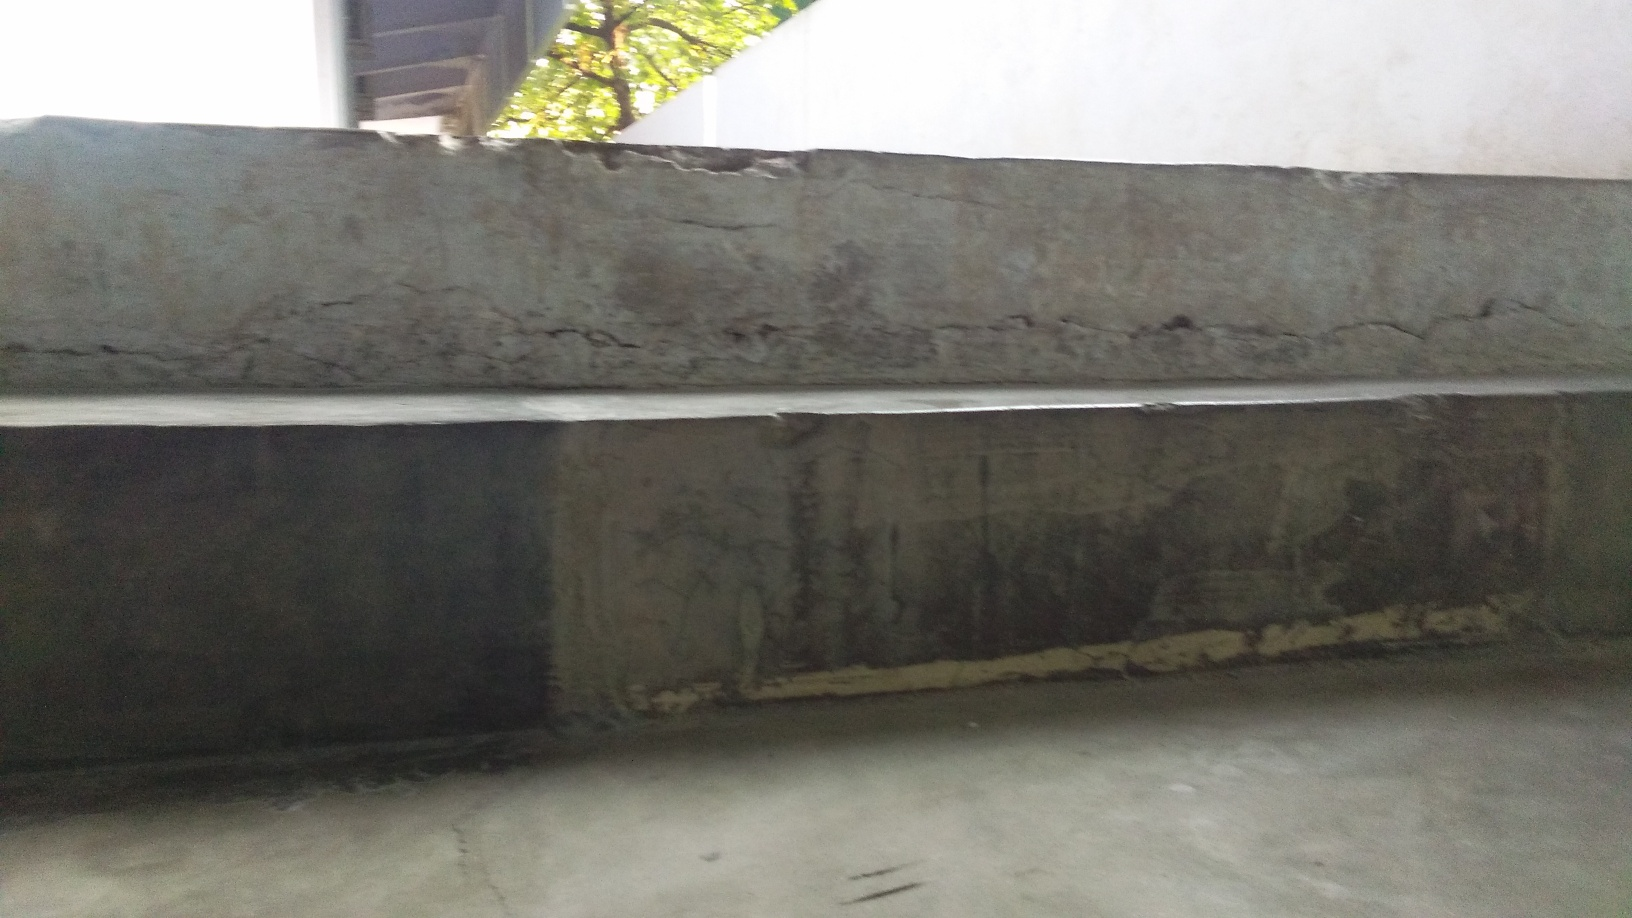stairs_up: (10, 128, 1616, 747)
